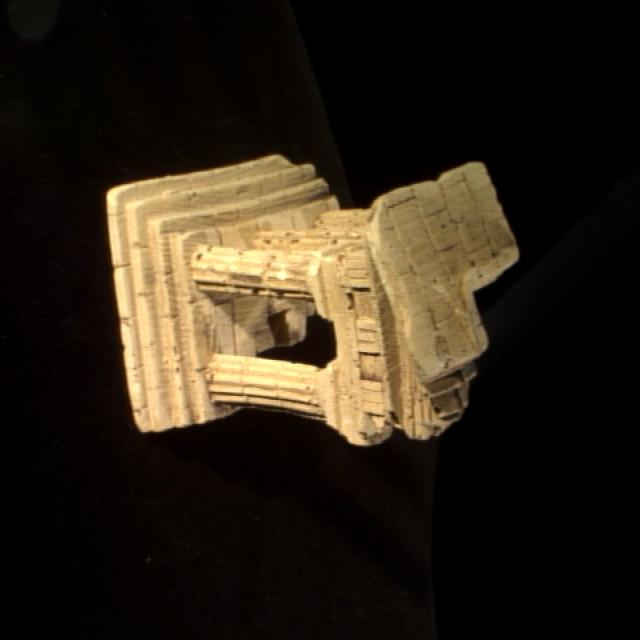Instance-Segmentation: (107, 156, 517, 444)
